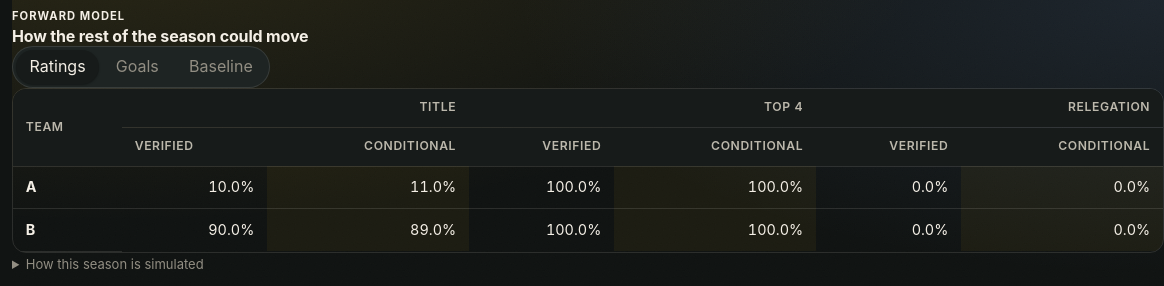
Test: Season scenario interactions › uses one voice control for verified and conditional values
Expected: the element named "Ratings verified and conditional season probabilities" is shown, [12, 88, 1163, 253]
What coordinates should you click on to do the following:
click the button "Goals"
I would click on:
 (137, 67)
Its box is [102, 50, 172, 84].
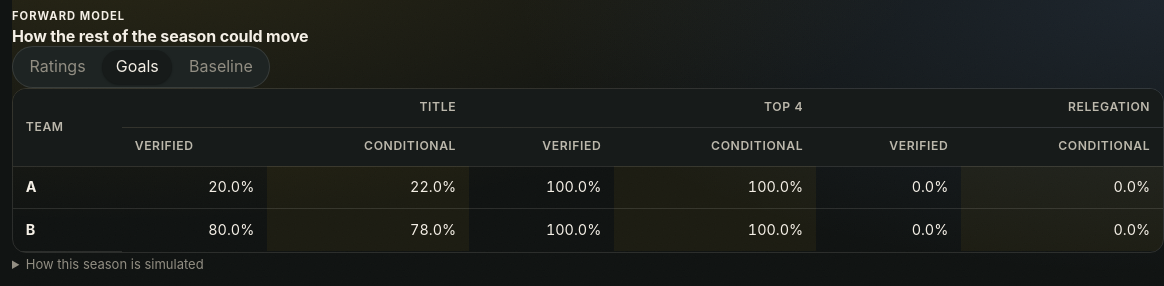
Expected: the element named "Goals verified and conditional season probabilities" shows "20.0%", [12, 88, 1163, 253]
Expected: the element named "Goals verified and conditional season probabilities" shows "22.0%", [410, 178, 456, 195]
